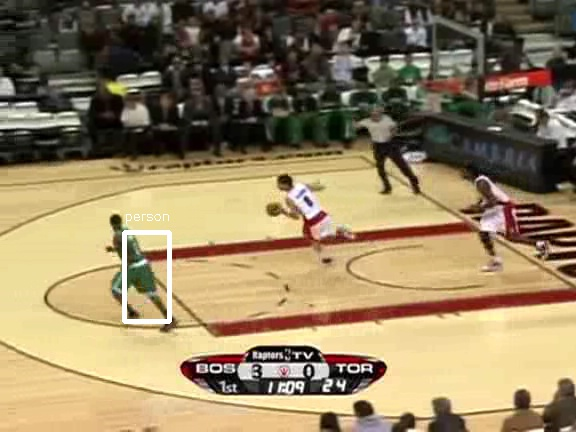person: (115, 222, 149, 303), (114, 222, 148, 303), (116, 222, 150, 303), (115, 221, 149, 302), (115, 223, 149, 304)
target_negative: (177, 96, 576, 296), (296, 200, 475, 276), (287, 46, 343, 260), (517, 64, 531, 355), (119, 421, 517, 425), (14, 317, 210, 325)
